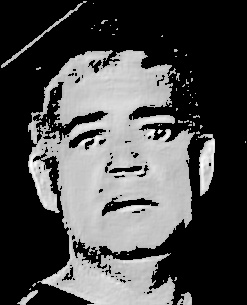nose_M_C: (103, 141, 152, 188)
